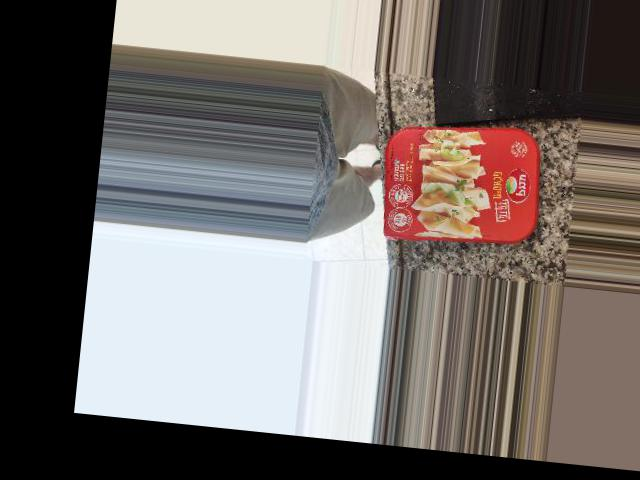cheese: (346, 95, 515, 235)
